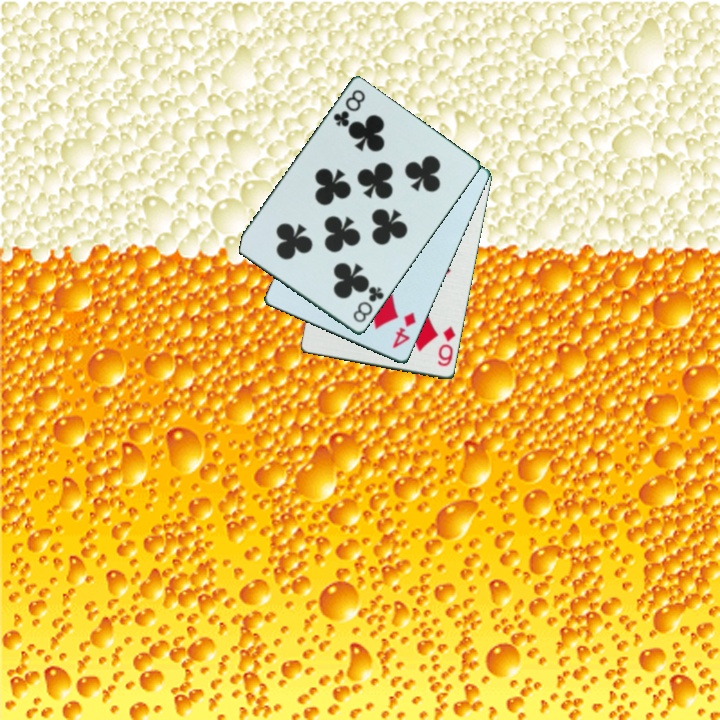4d: (389, 308, 419, 352)
6d: (434, 323, 459, 370)
8c: (330, 86, 368, 130), (349, 283, 387, 326)
